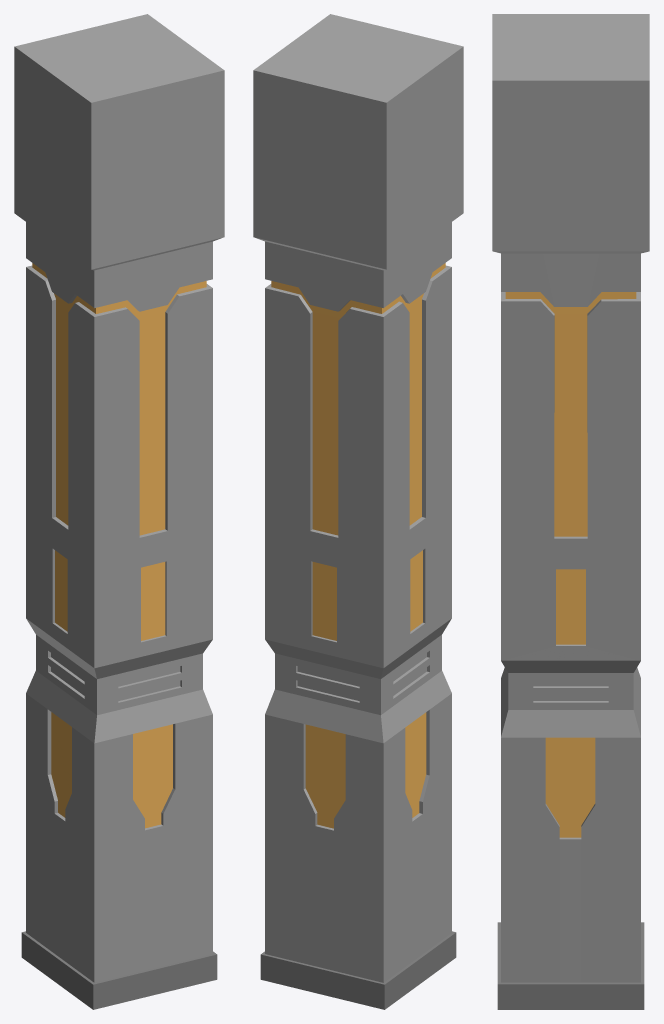
The model's file is Column_3_GD.glb.
The picture shows the model from 3 angles, left to right: view 1: azimuth 30°, elevation 25°; view 2: azimuth 150°, elevation 25°; view 3: azimuth 270°, elevation 25°; orthographic projection. The views are drawn at different scales.
Visible parts, largest first — view 1: Column_3; view 2: Column_3; view 3: Column_3.
Part boxes in pixels (x1,y1,x2,y2): Column_3: (14,14,224,1009); Column_3: (253,14,463,1009); Column_3: (492,14,649,1009).
Size of the model in its own units: 5.13 by 33.48 by 5.13.
